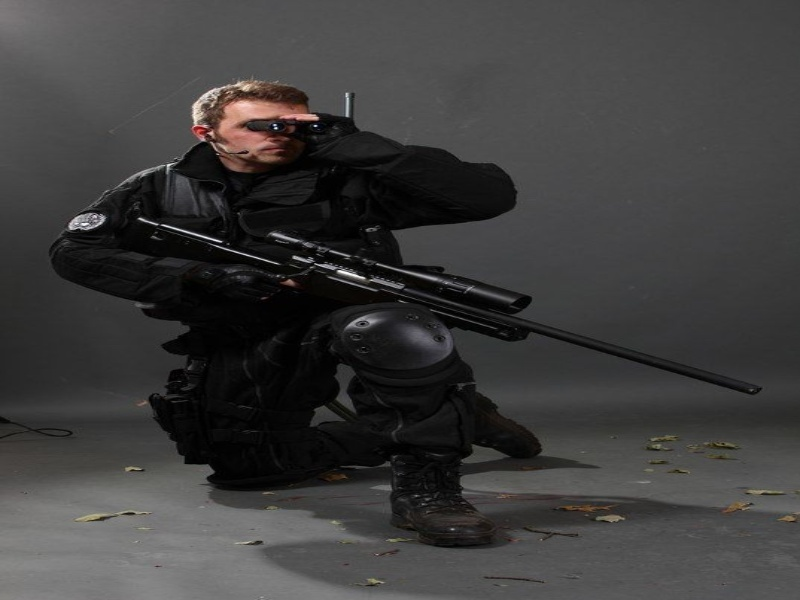person: (49, 80, 543, 548)
weapon: (131, 214, 763, 397)
